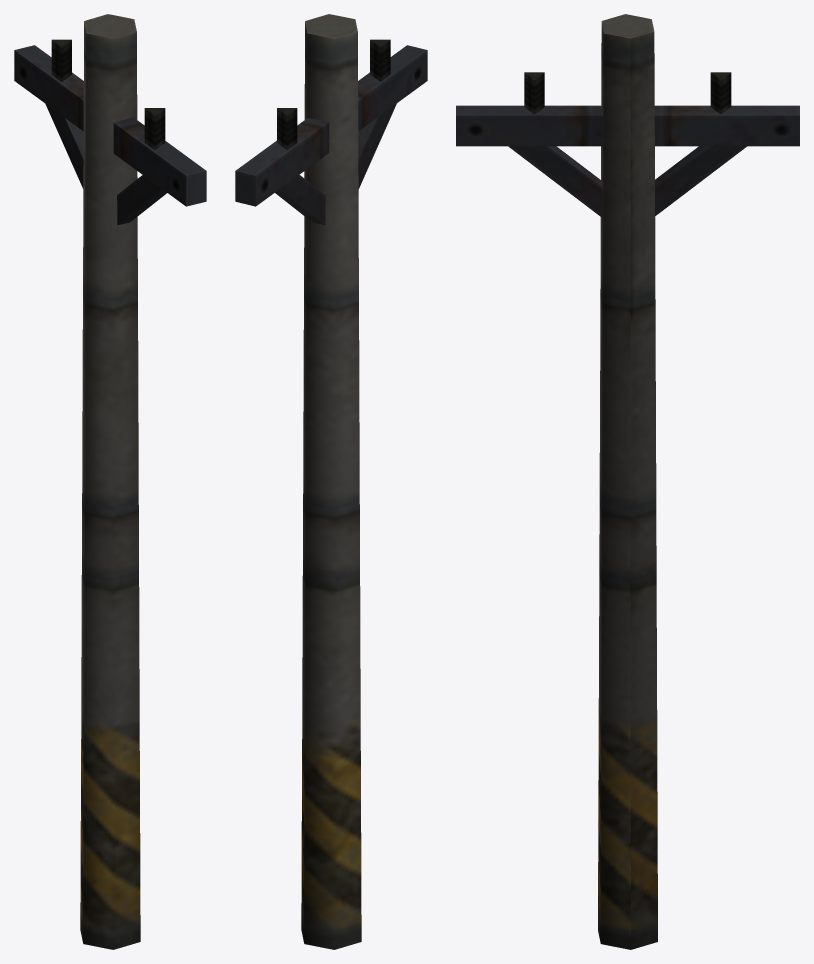
Rendered from Stage-gongchang-dianxiangan.FBX.
The picture shows the model from 3 angles, left to right: view 1: azimuth 30°, elevation 25°; view 2: azimuth 150°, elevation 25°; view 3: azimuth 270°, elevation 25°; orthographic projection.
Visible parts, largest first — view 1: Cylinder26; view 2: Cylinder26; view 3: Cylinder26.
Boxes of the visible parts, x1,y1,x2,y2 form: Cylinder26: (14,14,206,949); Cylinder26: (235,14,427,949); Cylinder26: (456,14,799,949).
Bounding box in the file's own units: 0.6517 × 3.38 × 9.88.
